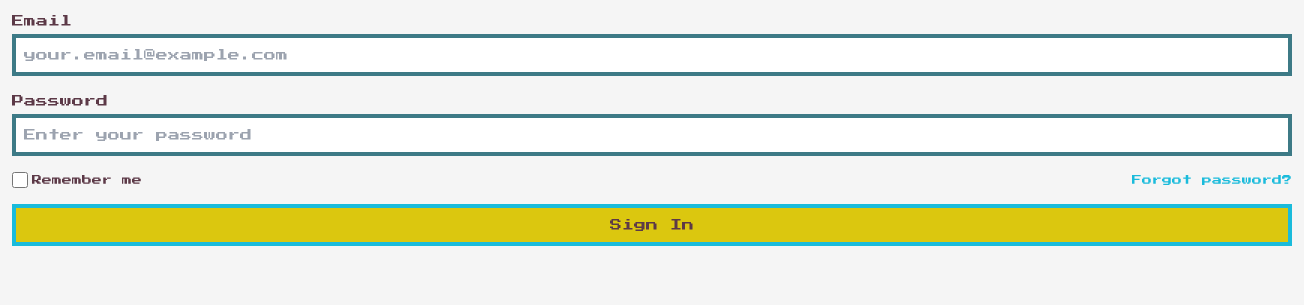
Test: LoginForm › validates email field
# Try to submit with empty email
Click the button "Sign In". click: (652, 225)
box: x1=12 y1=204 x2=1292 y2=246
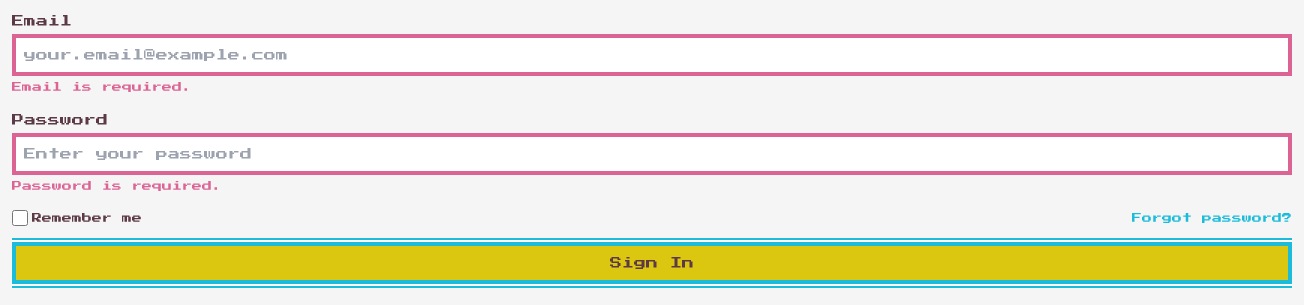
Check: the text "Email is required." is shown, box x1=12 y1=82 x2=192 y2=92
# Try to submit with invalid email
Type "invalid-email" into the field labelled "Email". click: (652, 55)
box: x1=12 y1=34 x2=1292 y2=76
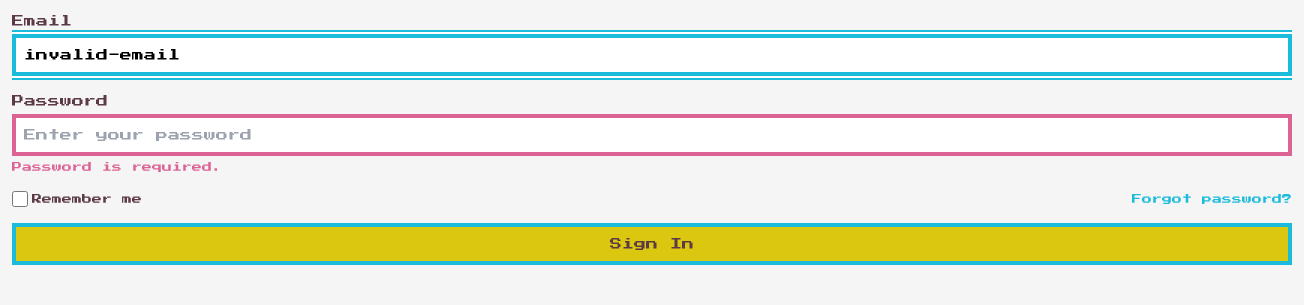
Click the button "Sign In". click: (652, 244)
box: x1=12 y1=223 x2=1292 y2=265
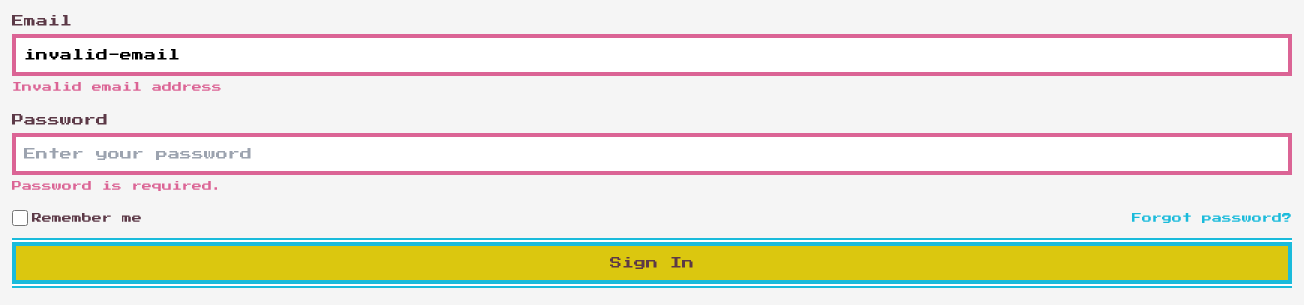
Check: the text "Invalid email address" is shown, box x1=12 y1=82 x2=222 y2=92
